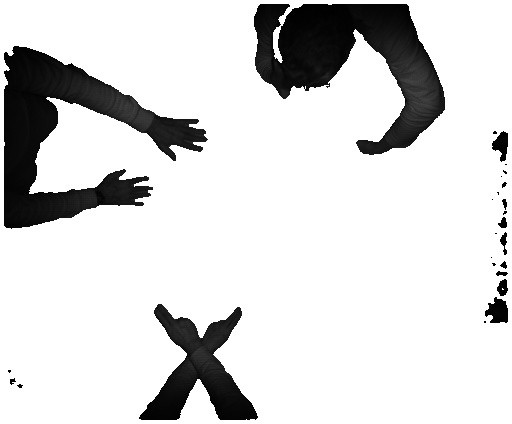fist: (352, 139, 379, 159)
hand: (156, 115, 207, 167), (152, 304, 200, 353), (100, 170, 159, 207), (204, 304, 247, 353)
